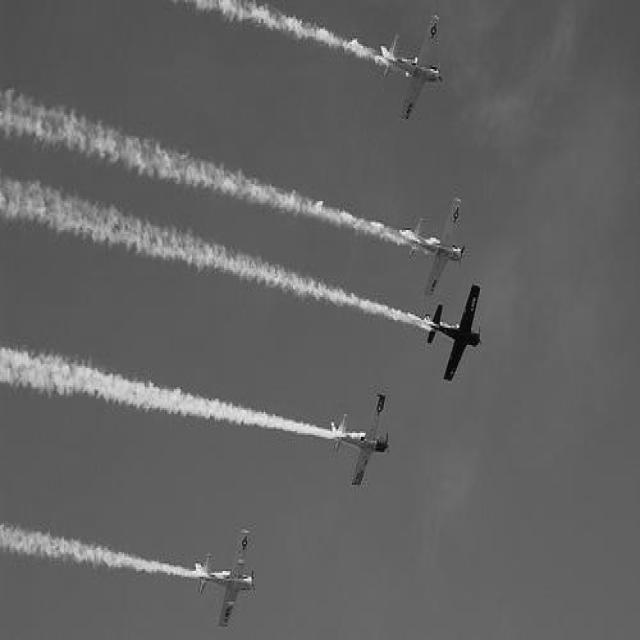aeroplane: (381, 17, 443, 119), (400, 199, 464, 297), (197, 528, 256, 628), (426, 284, 483, 382), (332, 396, 390, 484)
